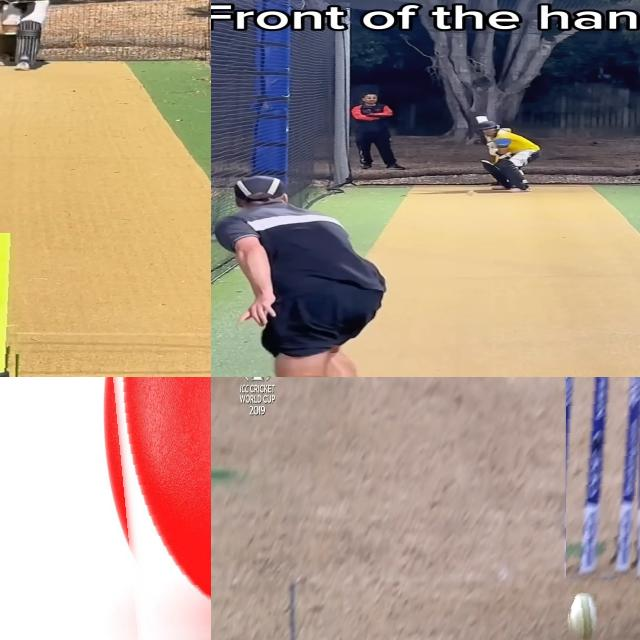Cricket ball: (94, 377, 211, 640), (567, 593, 596, 640), (465, 190, 477, 197)
Stumps: (565, 377, 640, 581)
